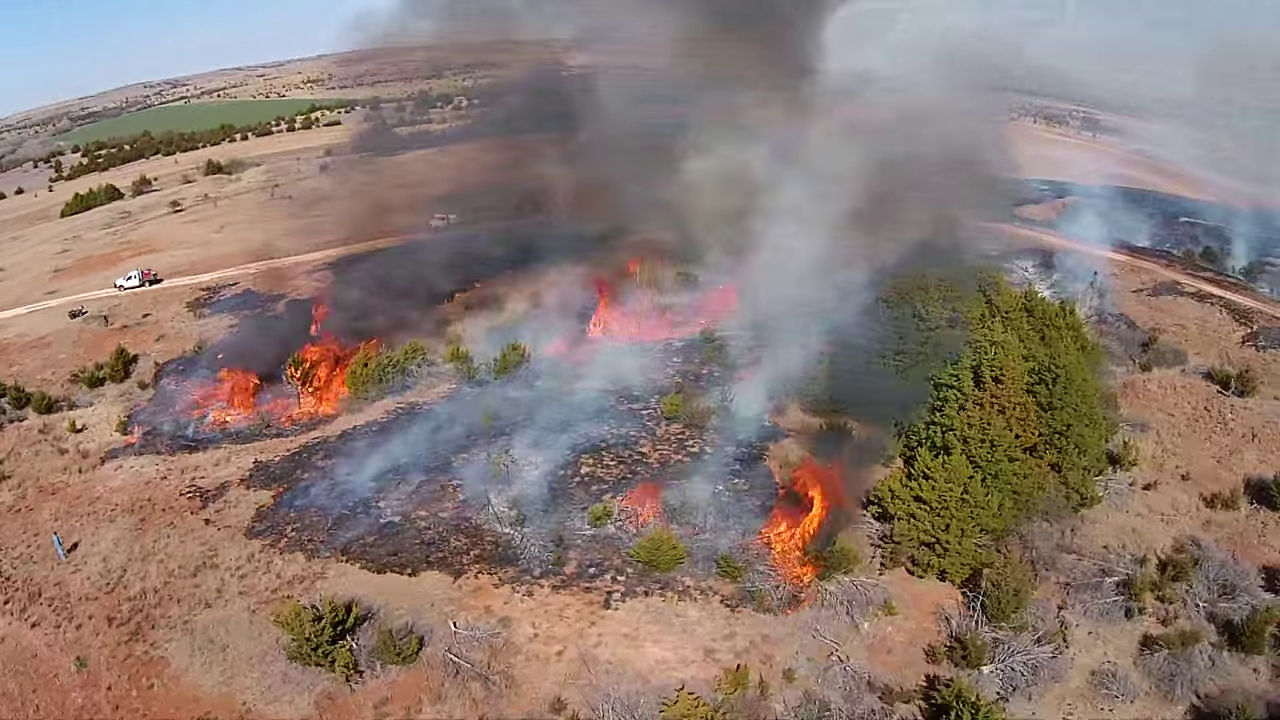forest_fire: (192, 302, 375, 427), (586, 258, 737, 341), (760, 456, 841, 586), (617, 481, 663, 529)
